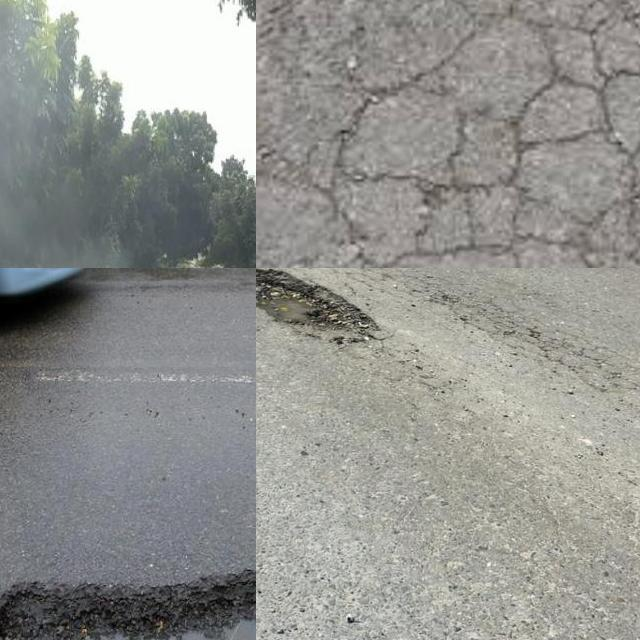Lubang: (256, 271, 379, 336)
Retak Buaya: (258, 0, 640, 268)
